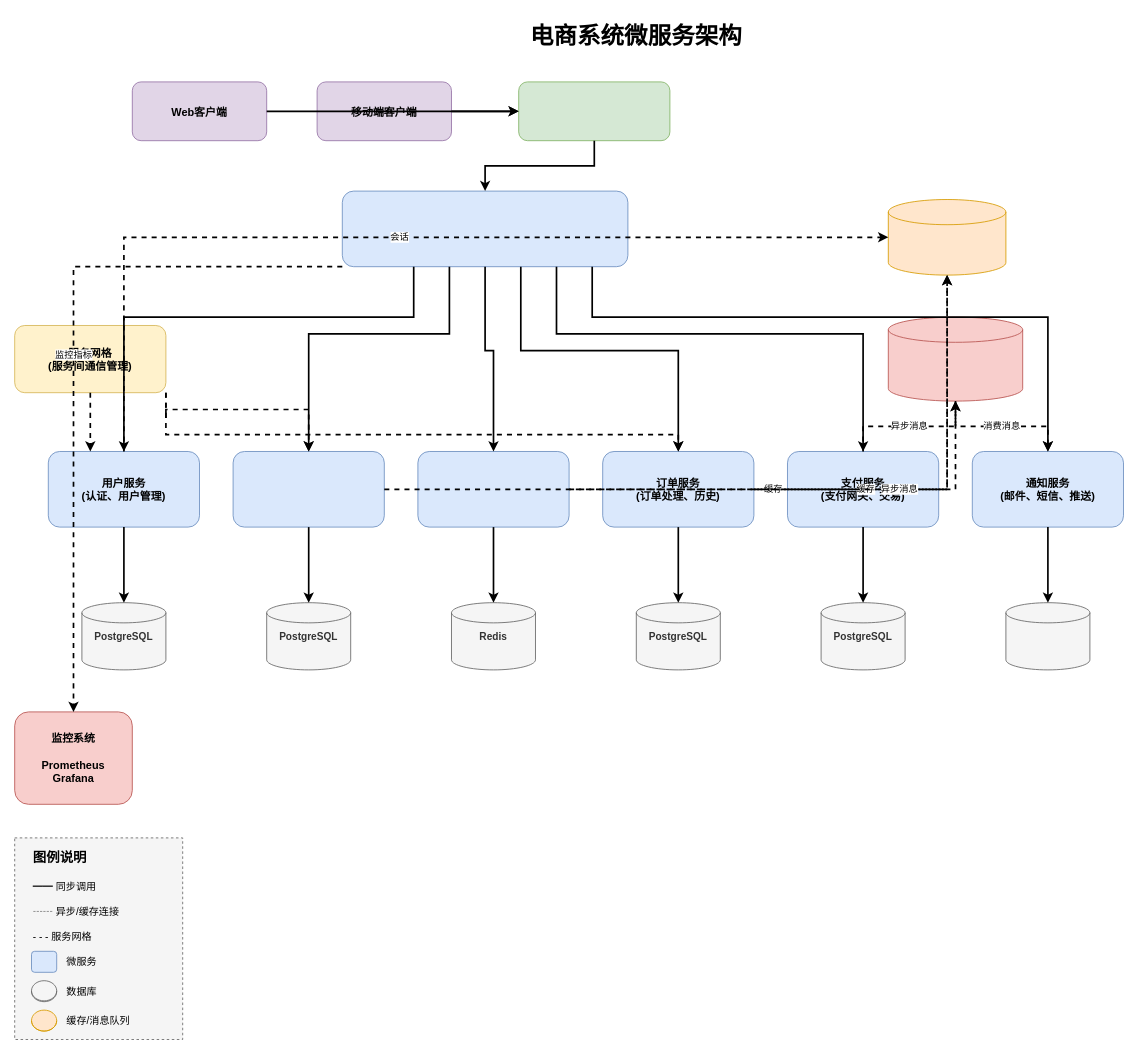
The diagram is 1138 pixels wide and 1054 high, and some of its shapes have lost their labels. Each missing label, with the centre of its shape:
API 网关 (认证、路由、限流): point 484,228
CDN / 负载均衡: point 594,111
MongoDB: point 1047,636
商品服务 (库存、搜索、分类): point 308,489
消息队列 (RabbitMQ/Kafka): point 955,358
缓存层 (Redis): point 946,237
购物车服务 (会话管理): point 493,489
